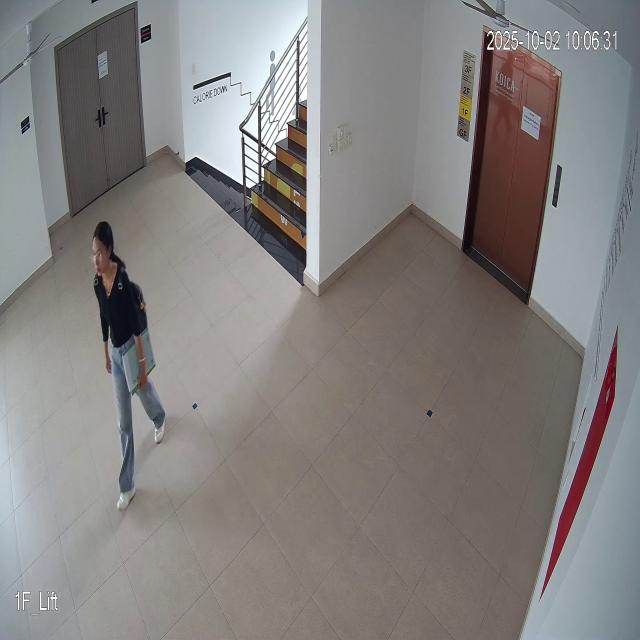face: (89, 214, 115, 286)
